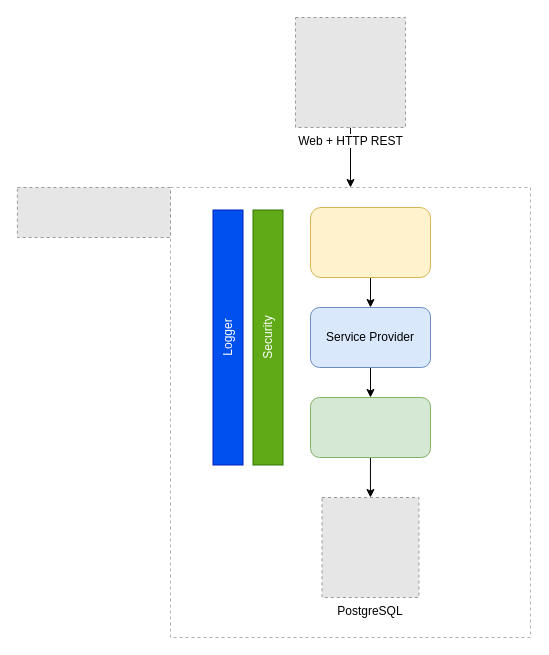
The diagram is 549 pixels wide and 655 high, and some of its shapes have lost their labels. Grey dashed boxes stand in for pictures. Here are the shapes that lost their labels. From the top down, the box of each, then its label:
(310, 206, 430, 278): Controller + Routes
(310, 396, 430, 458): Model/Dao (Lucid model)
